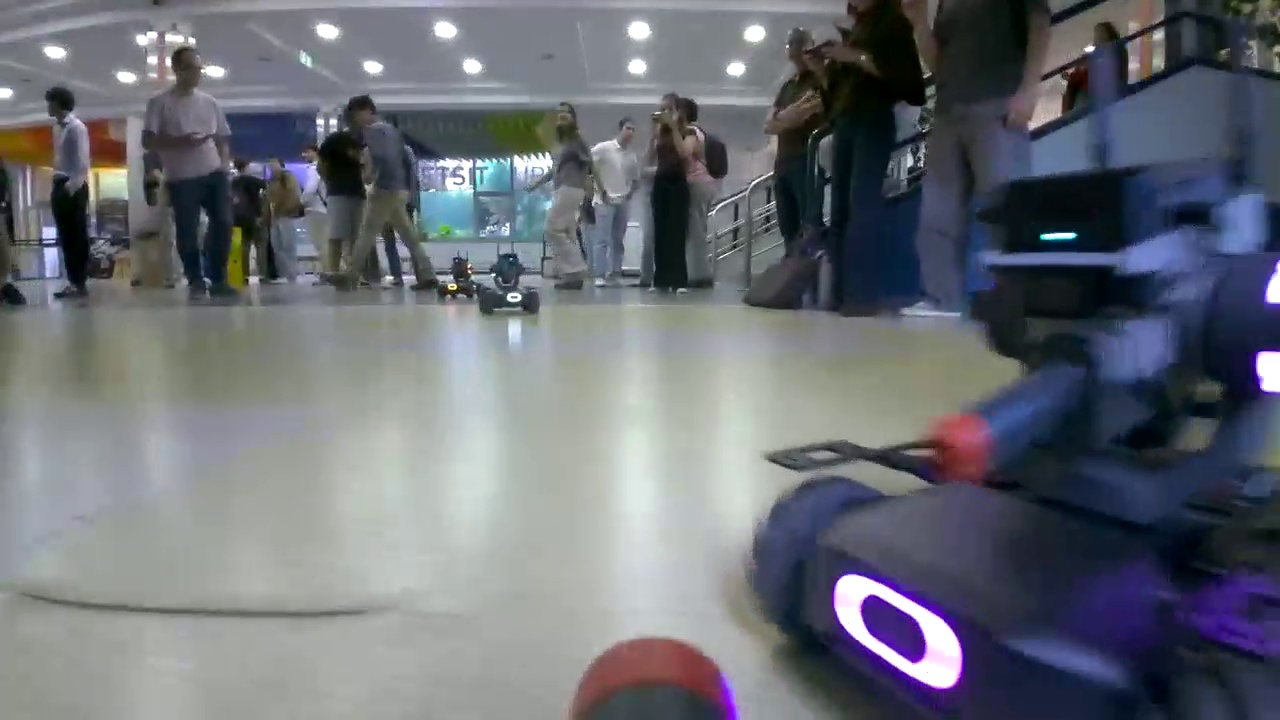robot: (749, 147, 1280, 720), (480, 253, 541, 313), (437, 254, 485, 299)
